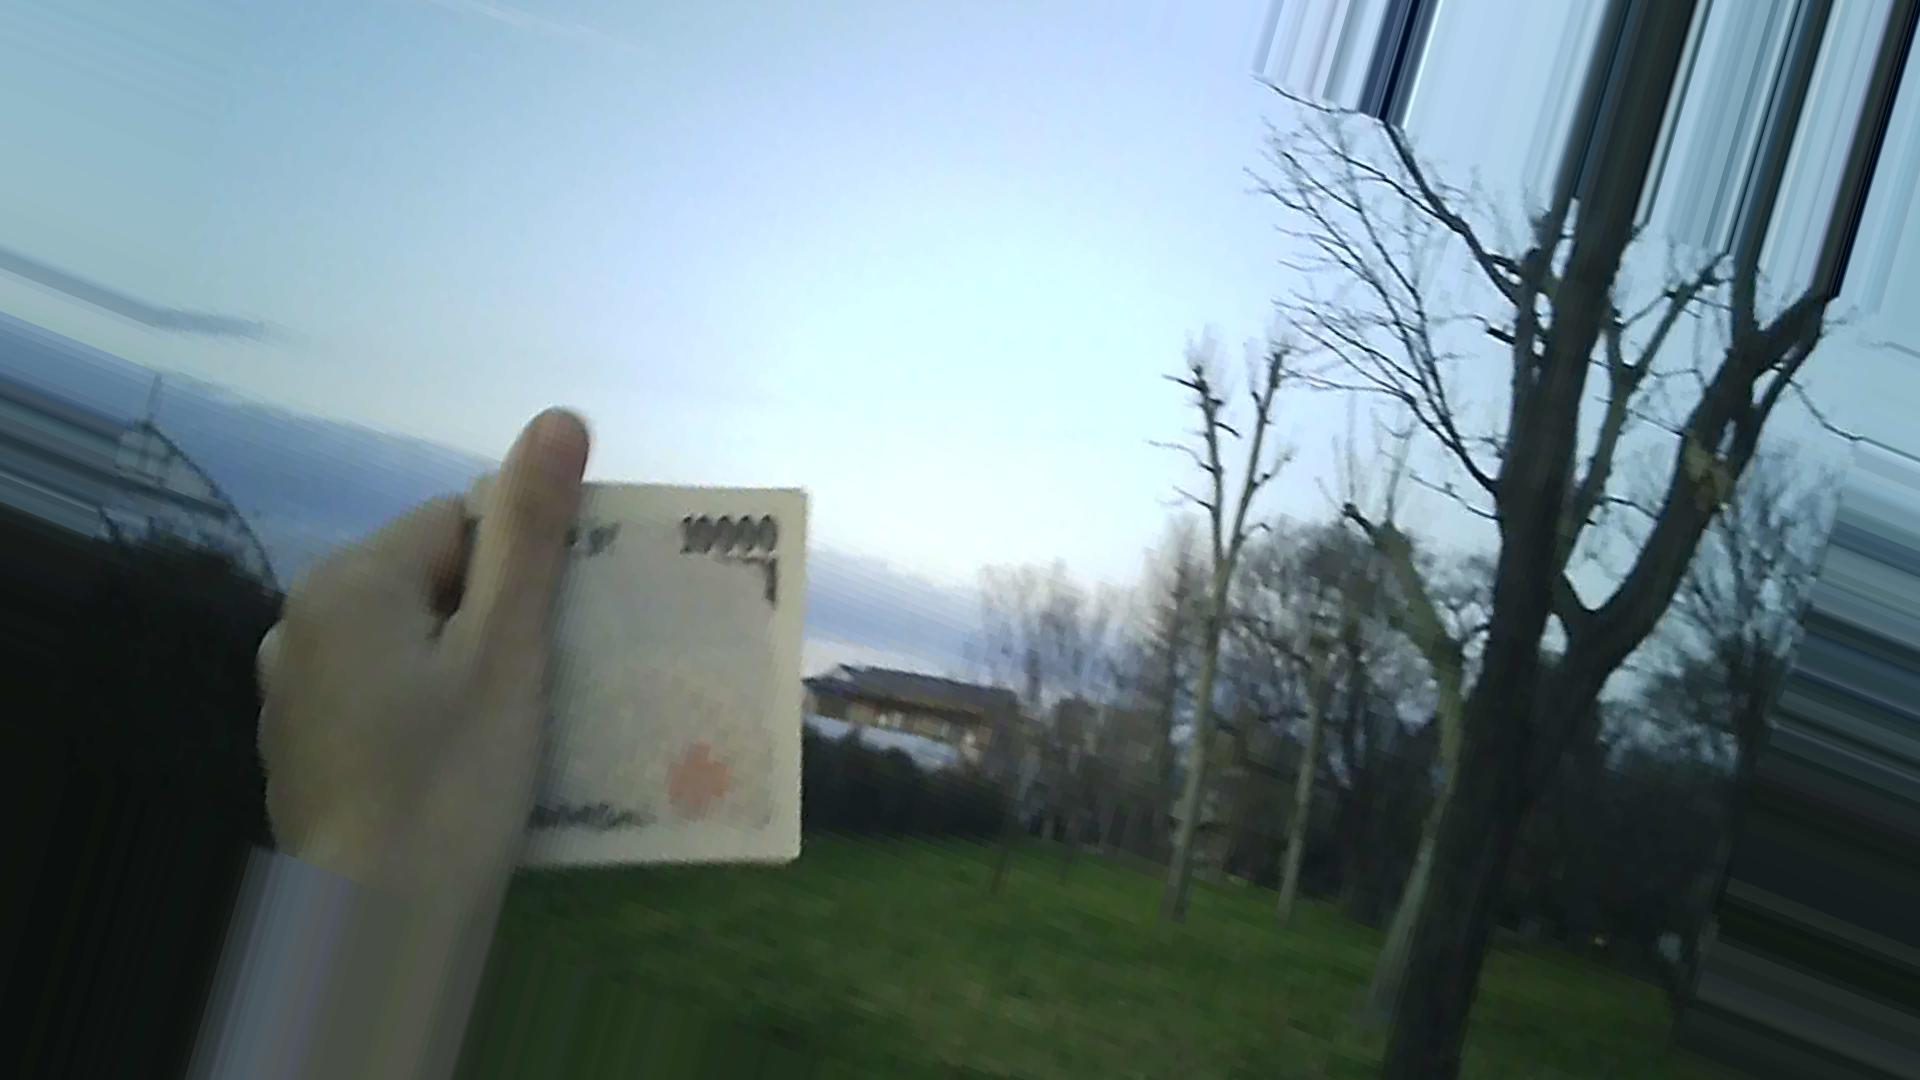10,000 Yen: (465, 451, 843, 865)
